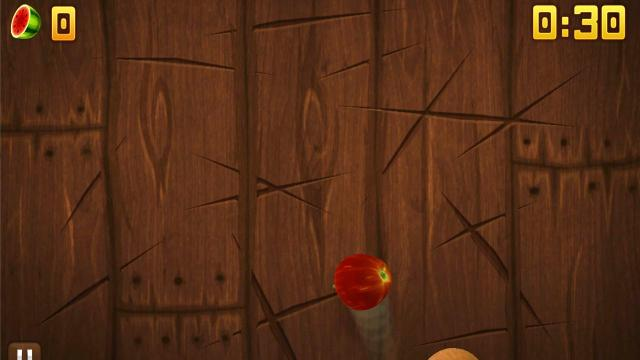fruit: (333, 252, 392, 310), (427, 347, 481, 359)
ignore: (9, 3, 43, 41)
